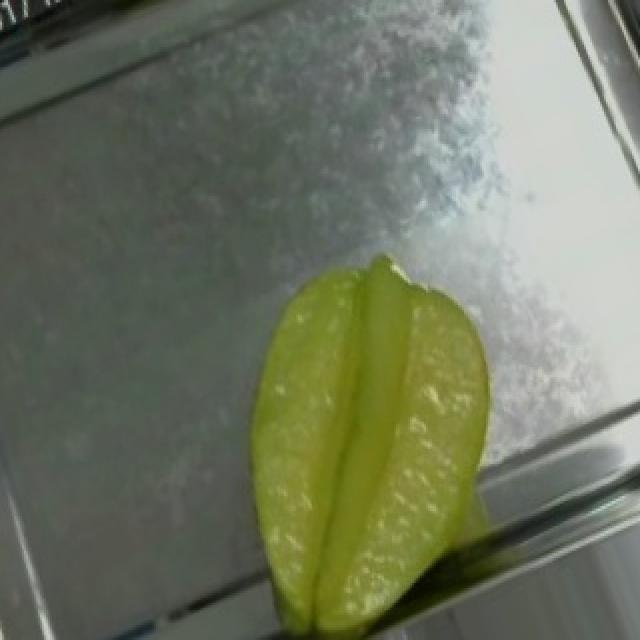fruit: (206, 223, 576, 640)
